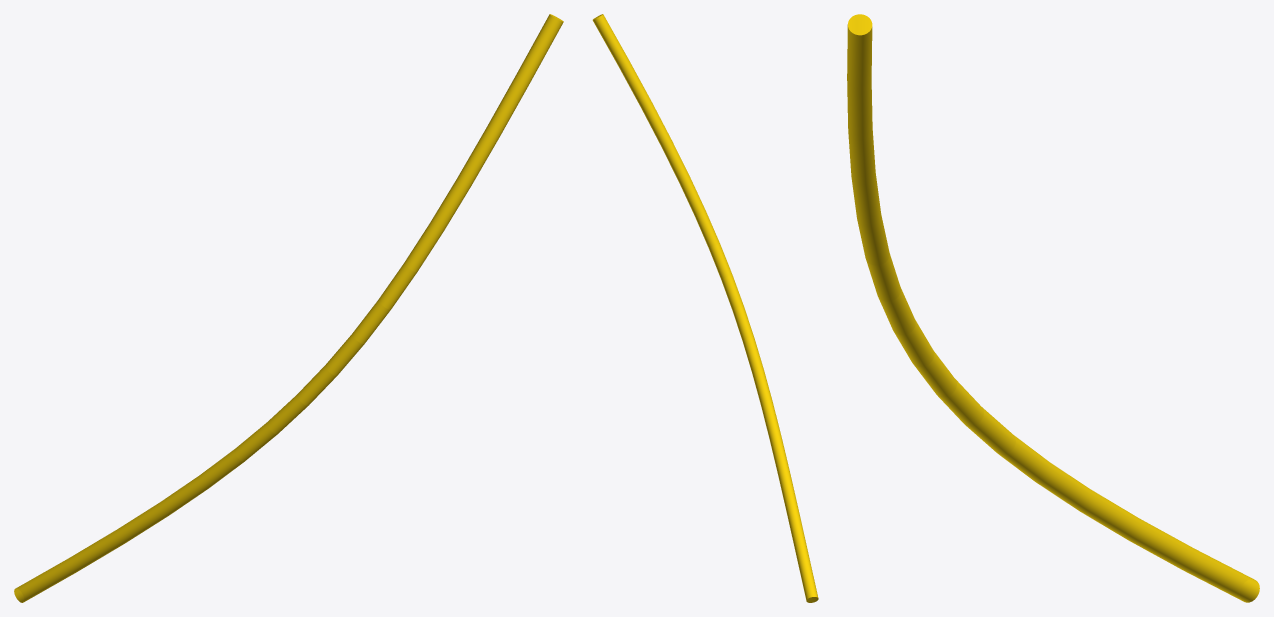
The model's file is Event_421364160_track_77.fbx.
3 views of the same model, side by side, from view 1: azimuth 30°, elevation 25°; view 2: azimuth 150°, elevation 25°; view 3: azimuth 270°, elevation 25° (orthographic). The views are drawn at different scales.
Visible parts, largest first — view 1: Model; view 2: Model; view 3: Model.
Part boxes in pixels (left/top/right/bottom): Model: left=14, top=14, right=563, bottom=602; Model: left=592, top=14, right=818, bottom=602; Model: left=847, top=14, right=1259, bottom=602.
Size of the model in its own units: 1.2 by 1.59 by 0.6697.
